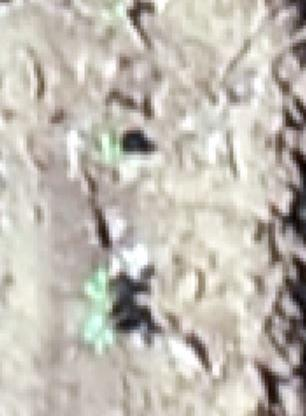cotton: (82, 313, 109, 340), (88, 275, 110, 303), (101, 135, 121, 162)
